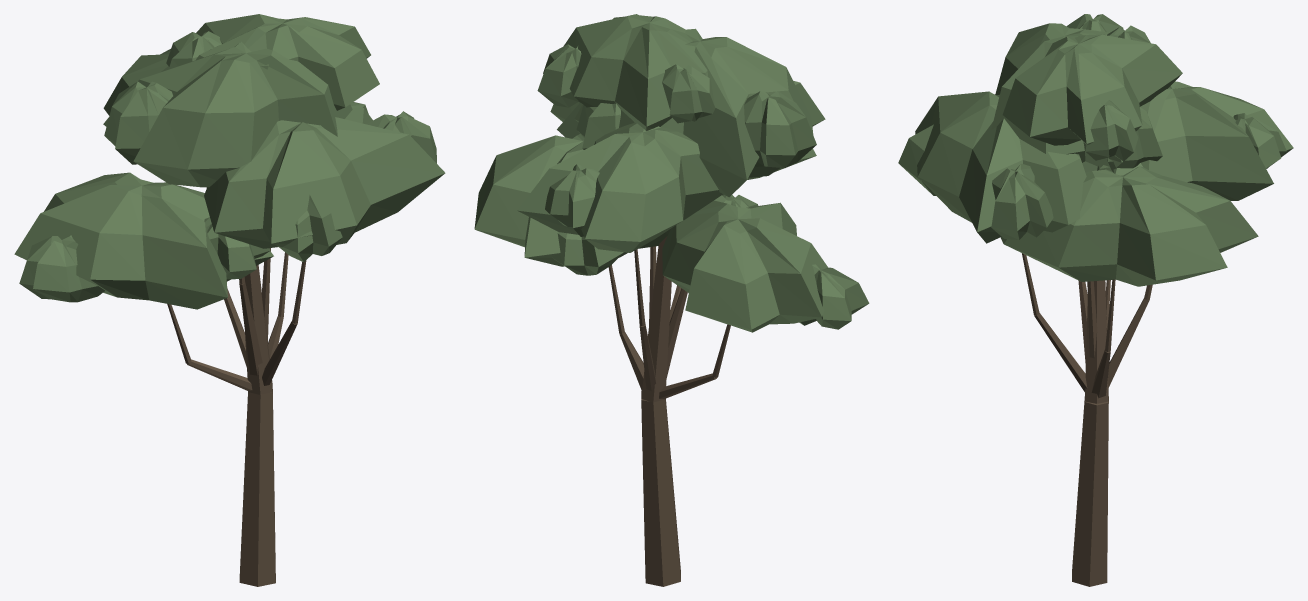
Rendered from field-tree-upright-high.glb.
3 renders of one model, left to right at view 1: azimuth 30°, elevation 25°; view 2: azimuth 150°, elevation 25°; view 3: azimuth 270°, elevation 25°, orthographic. The views are drawn at different scales.
Parts seen in each view (by area): view 1: field-tree-upright-high / crown, field-tree-upright-high / trunk; view 2: field-tree-upright-high / crown, field-tree-upright-high / trunk; view 3: field-tree-upright-high / crown, field-tree-upright-high / trunk.
Boxes of the visible parts, x1,y1,x2,y2 form: field-tree-upright-high / crown: (14,14,445,309); field-tree-upright-high / trunk: (167,187,306,586); field-tree-upright-high / crown: (474,14,869,332); field-tree-upright-high / trunk: (608,236,730,586); field-tree-upright-high / crown: (898,14,1293,286); field-tree-upright-high / trunk: (1022,253,1152,586).
Bounding box in the file's own units: 5.75 × 8.29 × 5.43.
